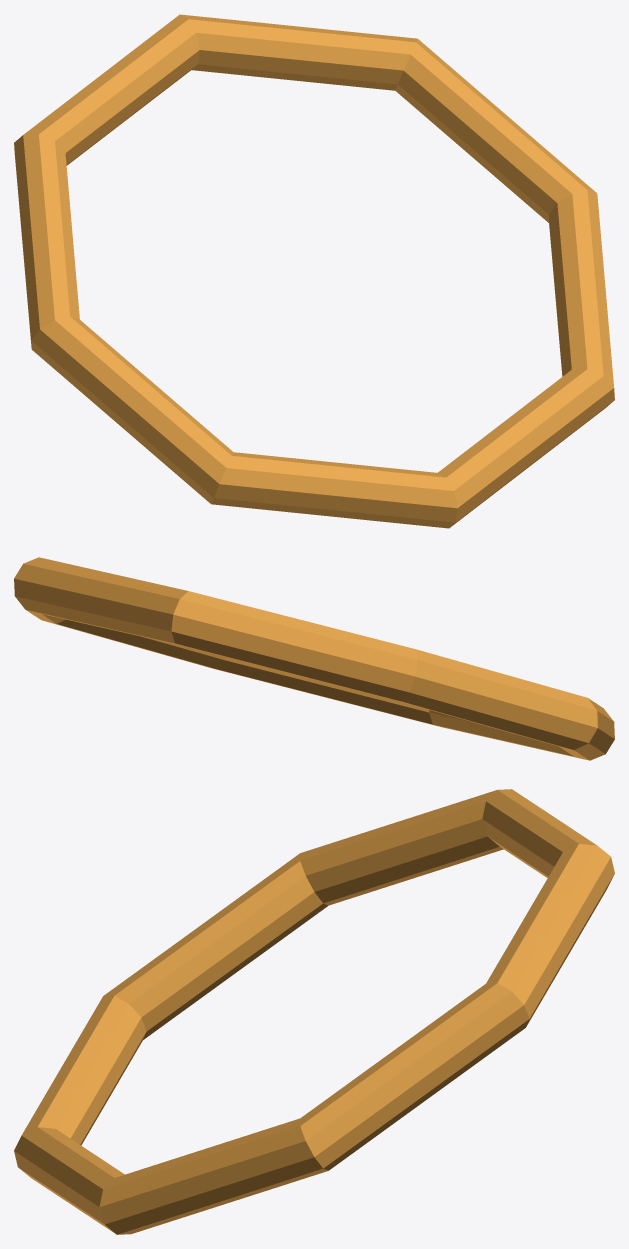
File: Boss aureola1.fbx
The picture shows the model from 3 angles, top to bottom: view 1: azimuth 30°, elevation 25°; view 2: azimuth 150°, elevation 25°; view 3: azimuth 270°, elevation 25°; orthographic projection. The views are drawn at different scales.
Parts seen in each view (by area): view 1: Wings.001; view 2: Wings.001; view 3: Wings.001.
Boxes of the visible parts, x1=… form: Wings.001: x1=14, y1=14, x2=614, y2=528; Wings.001: x1=14, y1=557, x2=614, y2=760; Wings.001: x1=14, y1=789, x2=614, y2=1234.
Bounding box in the file's own units: 207 × 112 × 181.
